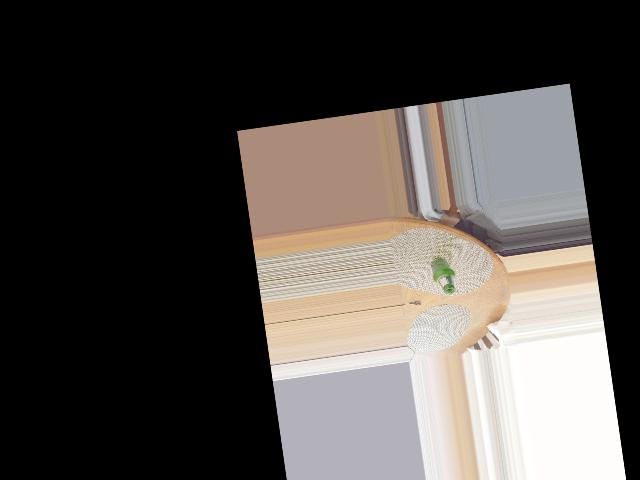beer: (430, 256, 458, 295)
